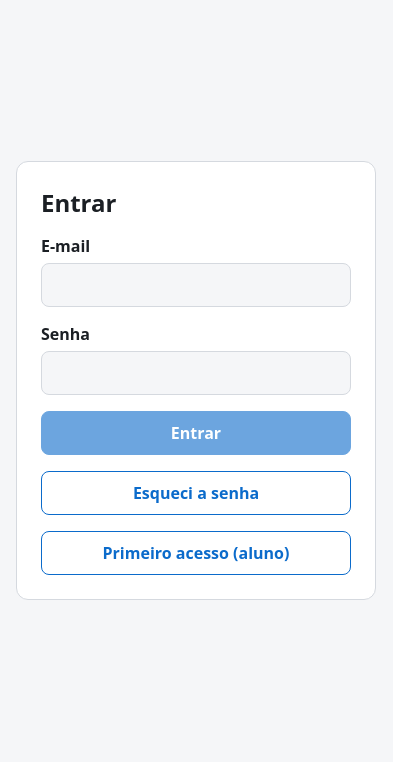
Test: primeiro acesso do aluno (ADR 0039) › código errado: mostra o erro da API e fica
This screenshot has width=393, height=762.
Click the button "Primeiro acesso (aluno)".
click(196, 552)  # box left=41, top=530, right=351, bottom=574
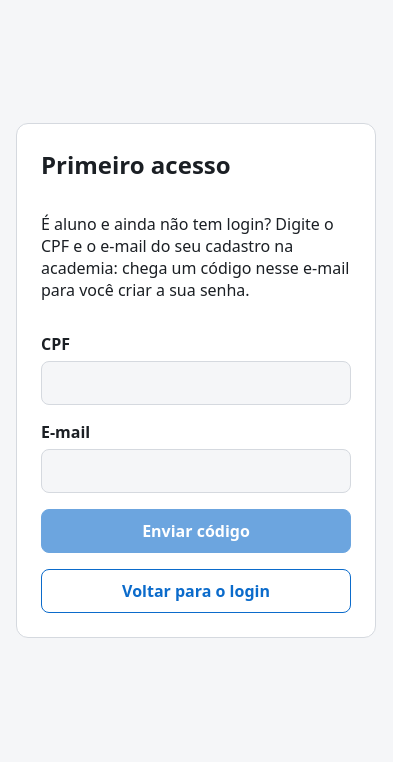
Type "529.982.247-25" into the field labelled "CPF".
click(196, 382); type("529.982.247-25")  # box left=41, top=360, right=351, bottom=404
Type "ana@academia.com" into the field labelled "E-mail".
click(196, 470); type("ana@academia.com")  # box left=41, top=448, right=351, bottom=492
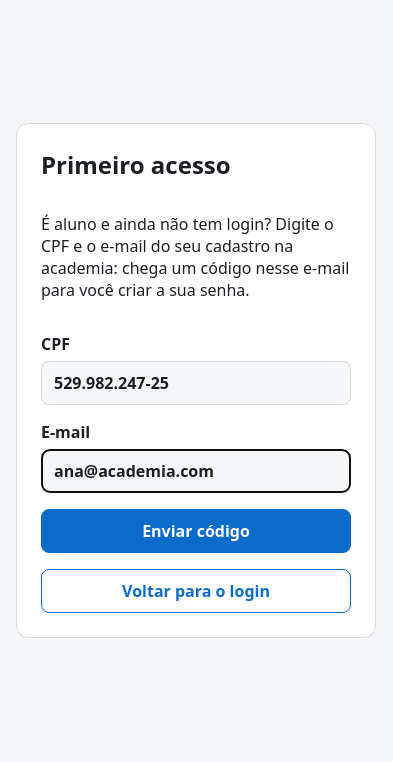
Click the button "Enviar código".
click(196, 530)  # box left=41, top=508, right=351, bottom=552
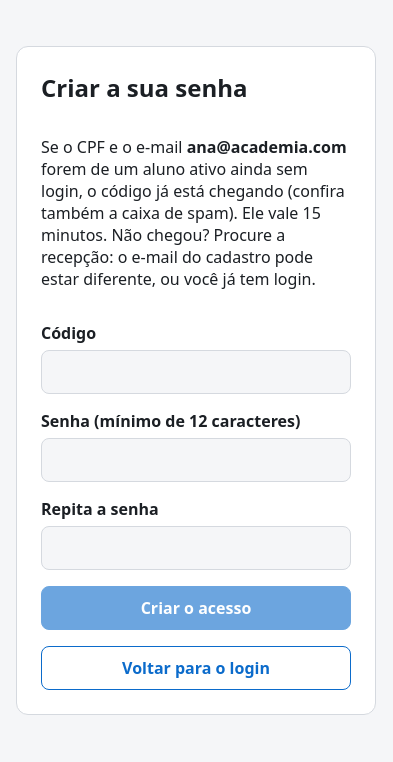
Type "000000" into the field labelled "Código".
click(196, 372); type("000000")  # box left=41, top=350, right=351, bottom=394
Type "senha-do-aluno-123" into the password field labelled "Senha (mínimo de 12 caracteres)".
click(196, 460); type("senha-do-aluno-123")  # box left=41, top=438, right=351, bottom=482
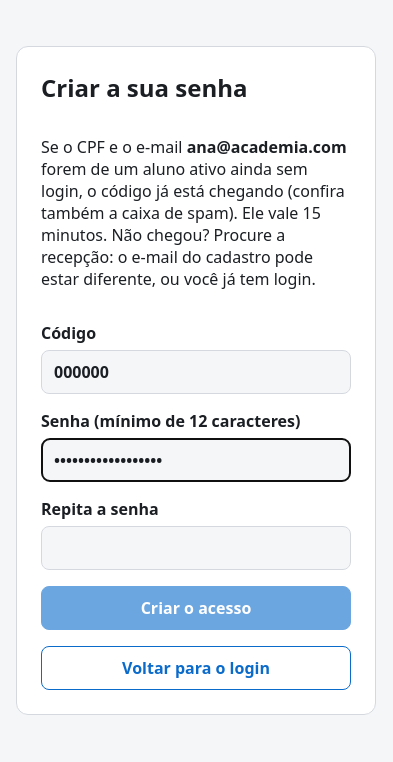
Type "senha-do-aluno-123" into the password field labelled "Repita a senha".
click(196, 548); type("senha-do-aluno-123")  # box left=41, top=526, right=351, bottom=570
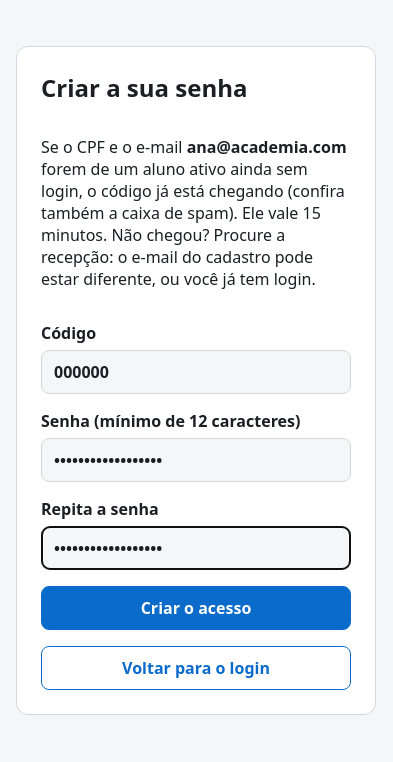
Click the button "Criar o acesso".
click(196, 608)  # box left=41, top=586, right=351, bottom=630
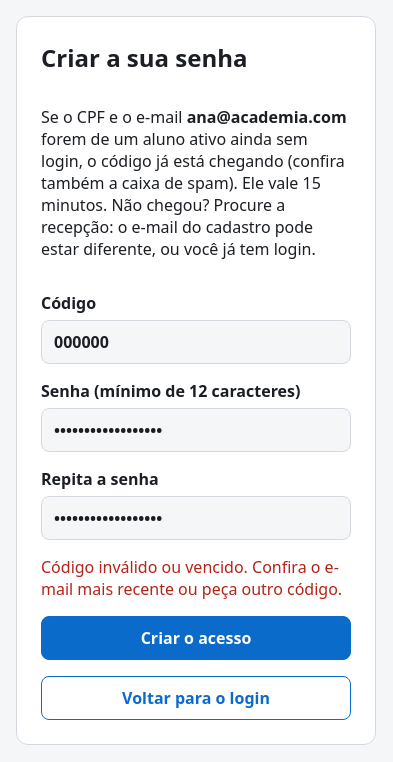
Result: the heading "Criar a sua senha" is shown at left=41, top=40, right=248, bottom=74
Result: the text "Código inválido ou vencido" is shown at left=41, top=556, right=342, bottom=600
